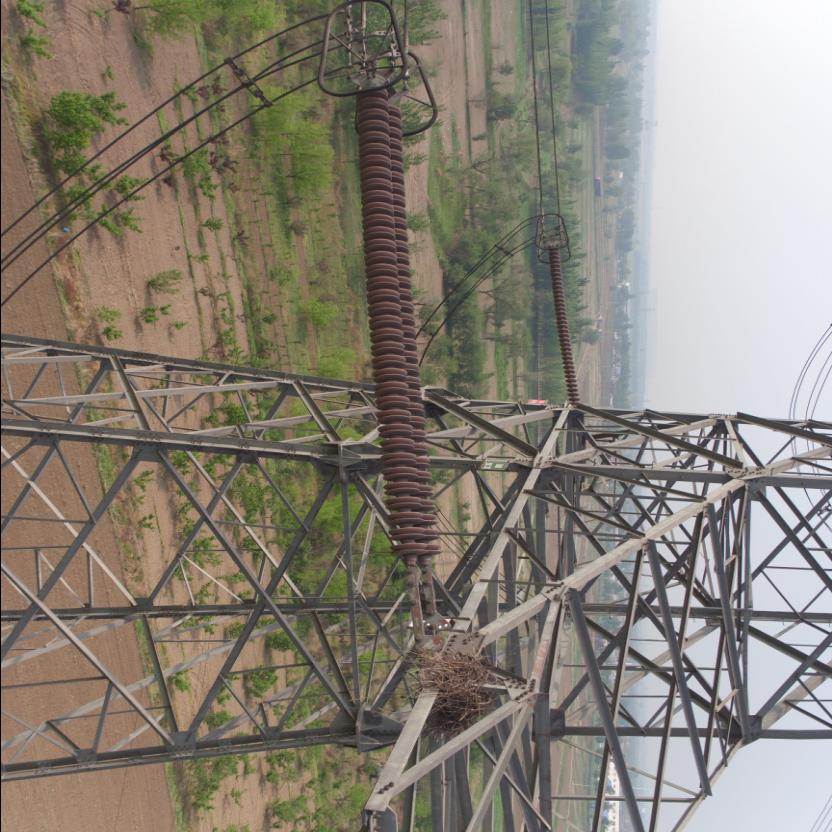insulator: (356, 79, 445, 597), (544, 239, 580, 403)
